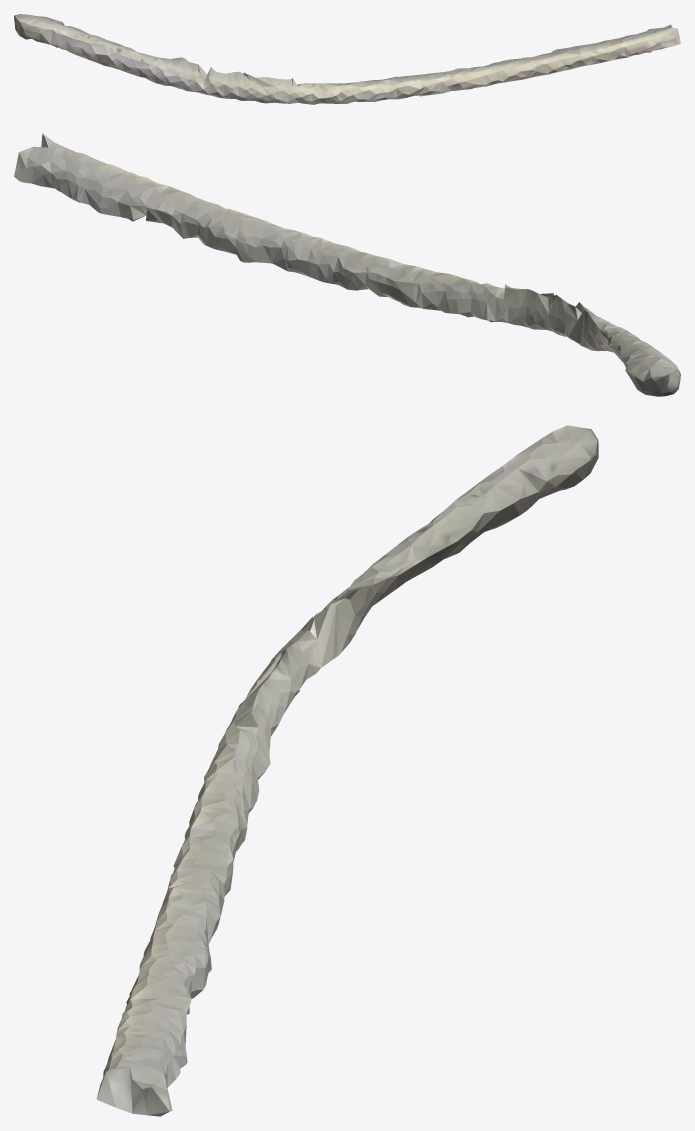
3 views of the same model, one above another, from view 1: azimuth 30°, elevation 25°; view 2: azimuth 150°, elevation 25°; view 3: azimuth 270°, elevation 25° (orthographic). The views are drawn at different scales.
Parts seen in each view (by area): view 1: link2; view 2: link2; view 3: link2.
Part boxes in pixels (x1,y1,x2,y2): link2: (14,14,680,104); link2: (14,133,680,396); link2: (96,425,598,1116).
Bounding box in the file's own units: 0.11 × 0.0164 × 0.0435.
1 material, 1 textured.
